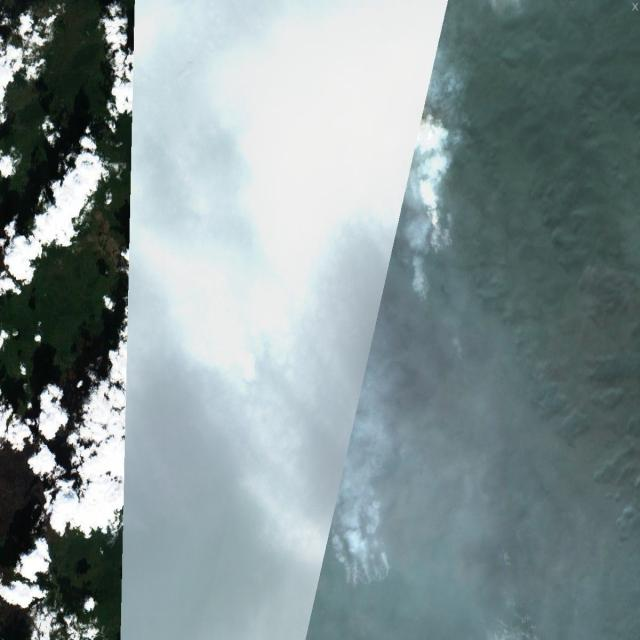fire: (327, 101, 458, 295), (304, 488, 398, 595), (226, 344, 277, 418)
